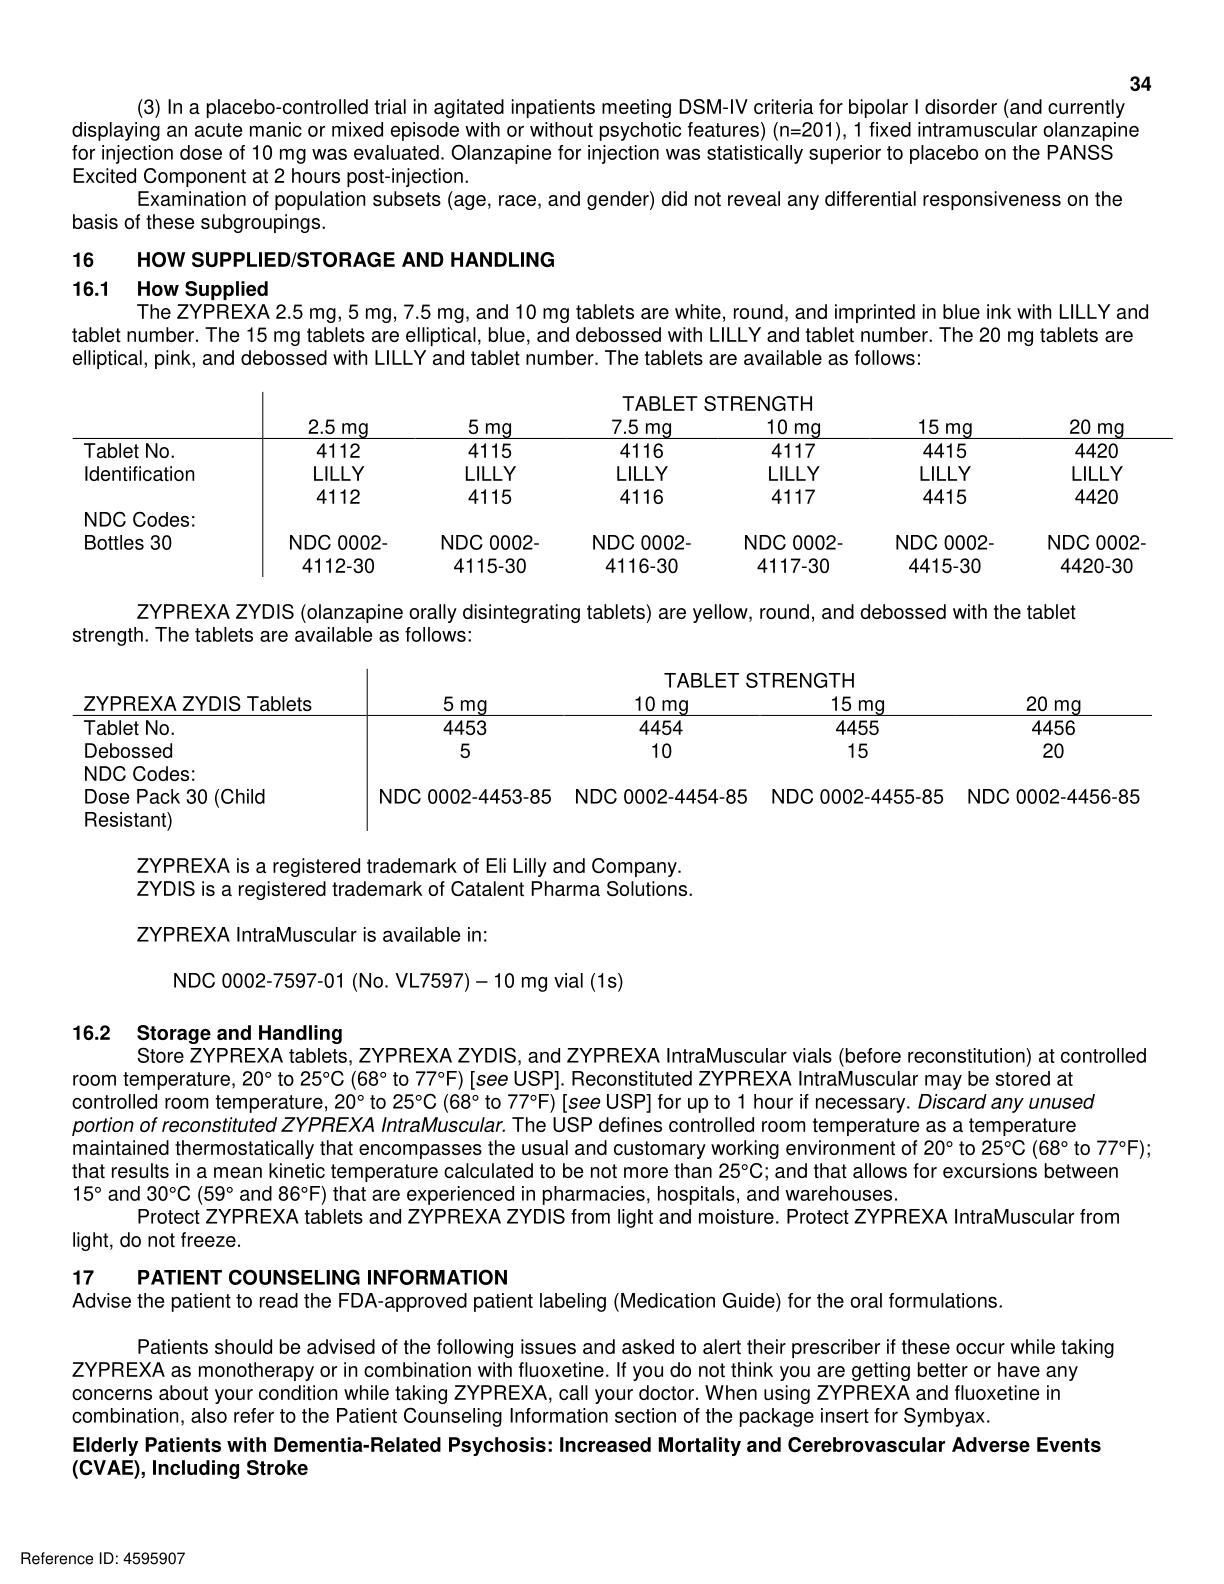partial_lined_merged_cells: (72, 384, 1175, 594), (71, 663, 1160, 840)
